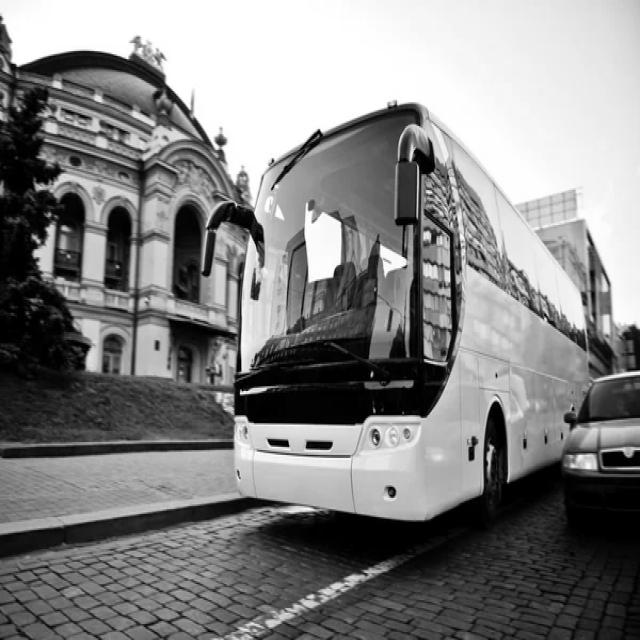Bus: (204, 103, 590, 520)
Car: (564, 372, 640, 523)
